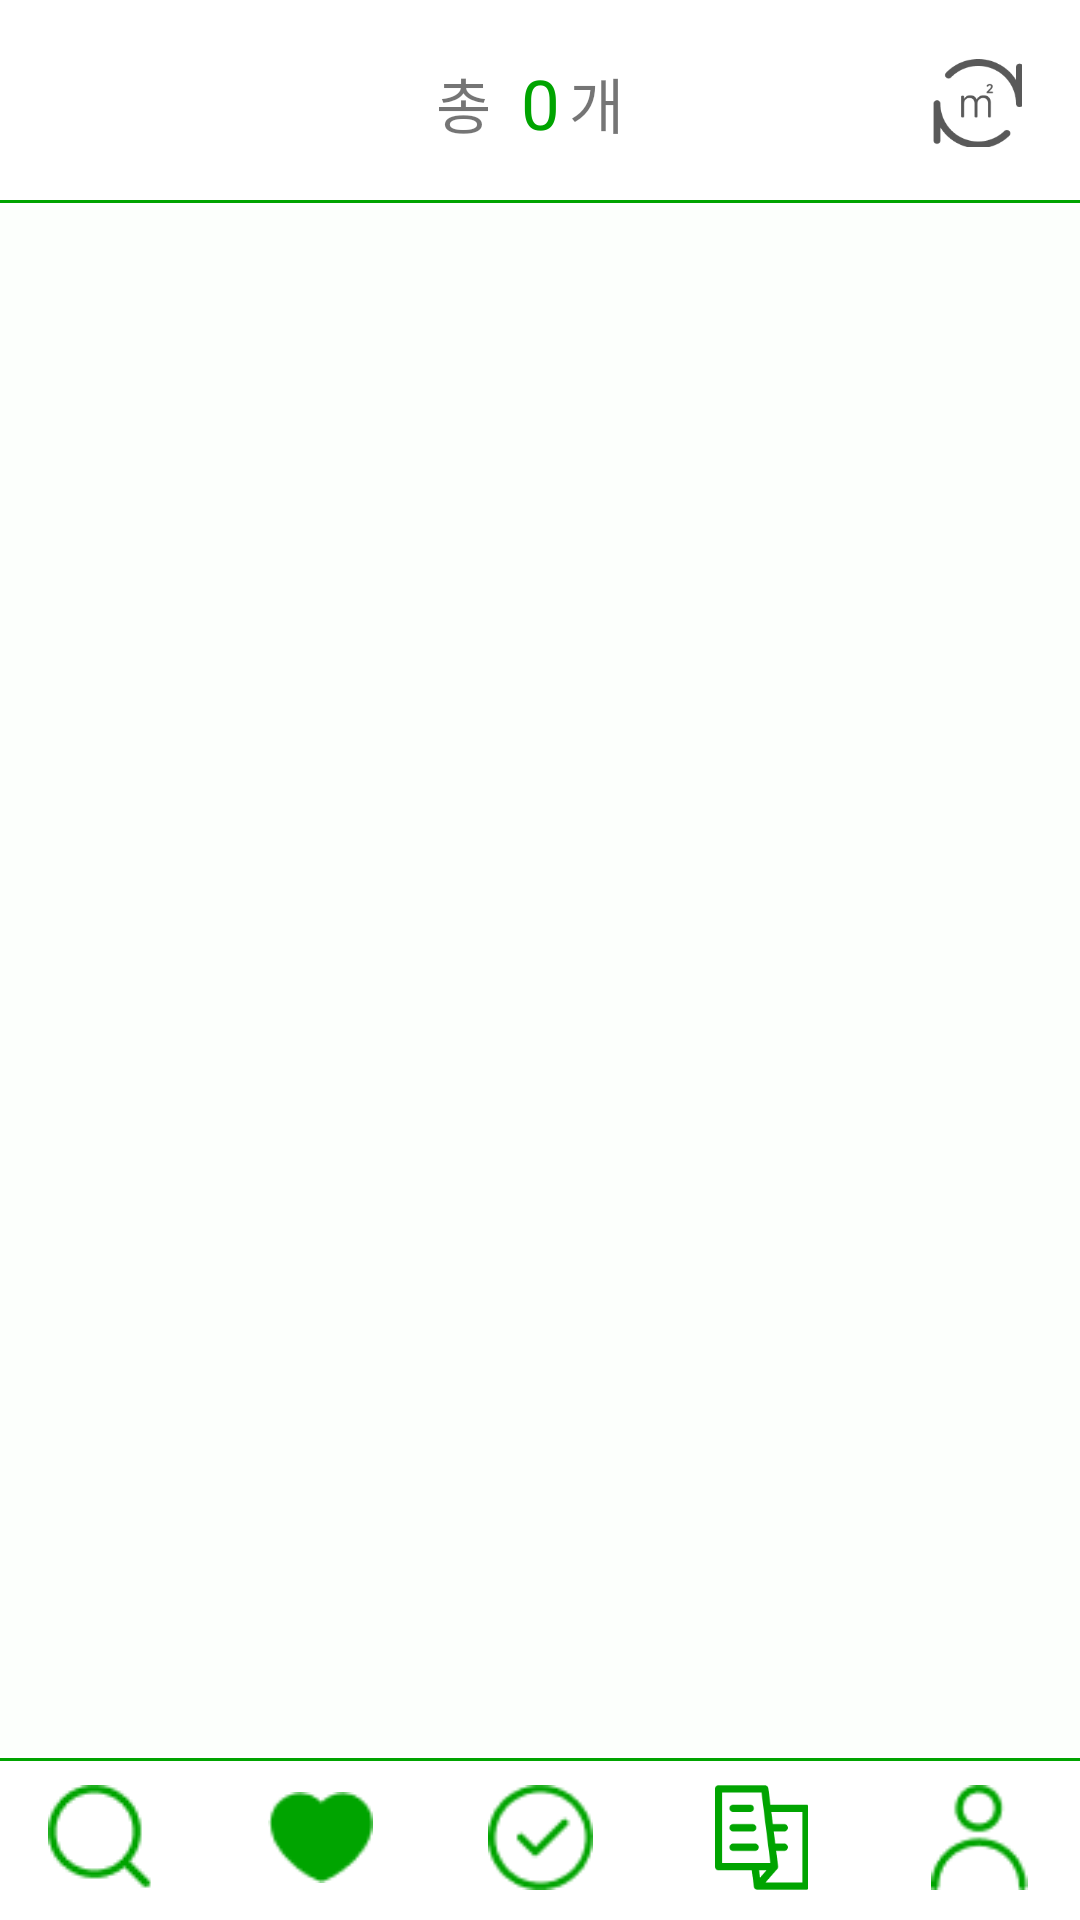

Where to tap for icons on this 1080×1920 app screen, as point (x, y):
offcheck: point (540, 1837)
offmagazine: point (761, 1837)
offprofile: point (979, 1837)
offsearch: point (99, 1836)
onheart: point (320, 1837)
